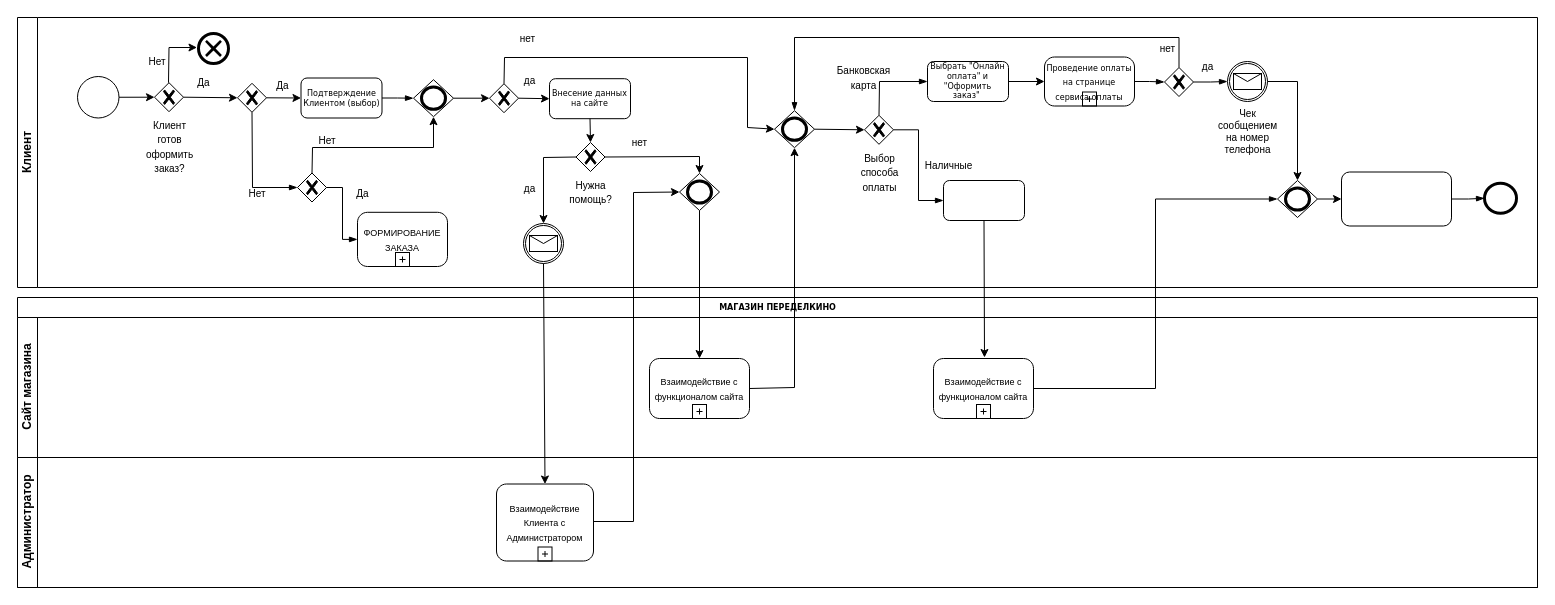
Image size: 1555x605. Some labels were removed from this diagram. The centre of each missing label's shape, as x and y in pixels:
Выбрать "Наличными при получении" и "Оформить заказ": (x=983, y=200)
Готов внести контактные данные?: (x=503, y=98)
Добавить товары до суммы?: (x=311, y=187)
Заказ оформлен: (x=1500, y=197)
Ознакомление с содержанием страницы успешного оформления заказа: (x=1396, y=198)
Оплата проведена?: (x=1179, y=81)
Сумма заказа >=1000р.?: (x=251, y=97)
Сформирован заказ: (x=97, y=97)
